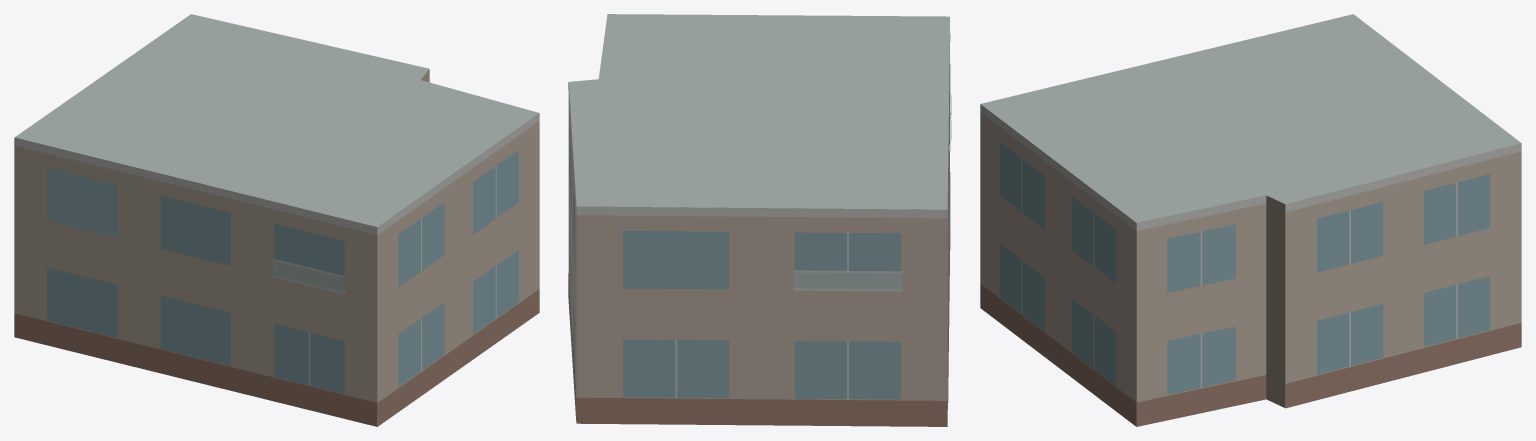
Rendered from survey-upis-32485630.glb.
3 views of the same model, side by side, from view 1: azimuth 30°, elevation 25°; view 2: azimuth 150°, elevation 25°; view 3: azimuth 270°, elevation 25° (orthographic). The views are drawn at different scales.
Parts seen in each view (by area): view 1: survey-upis-32485630.tmp; view 2: survey-upis-32485630.tmp; view 3: survey-upis-32485630.tmp.
Part boxes in pixels (x1,y1,x2,y2): survey-upis-32485630.tmp: [14, 14, 539, 426]; survey-upis-32485630.tmp: [568, 14, 951, 426]; survey-upis-32485630.tmp: [980, 14, 1521, 426].
Size of the model in its own units: 13.4 by 6.1 by 14.68.
